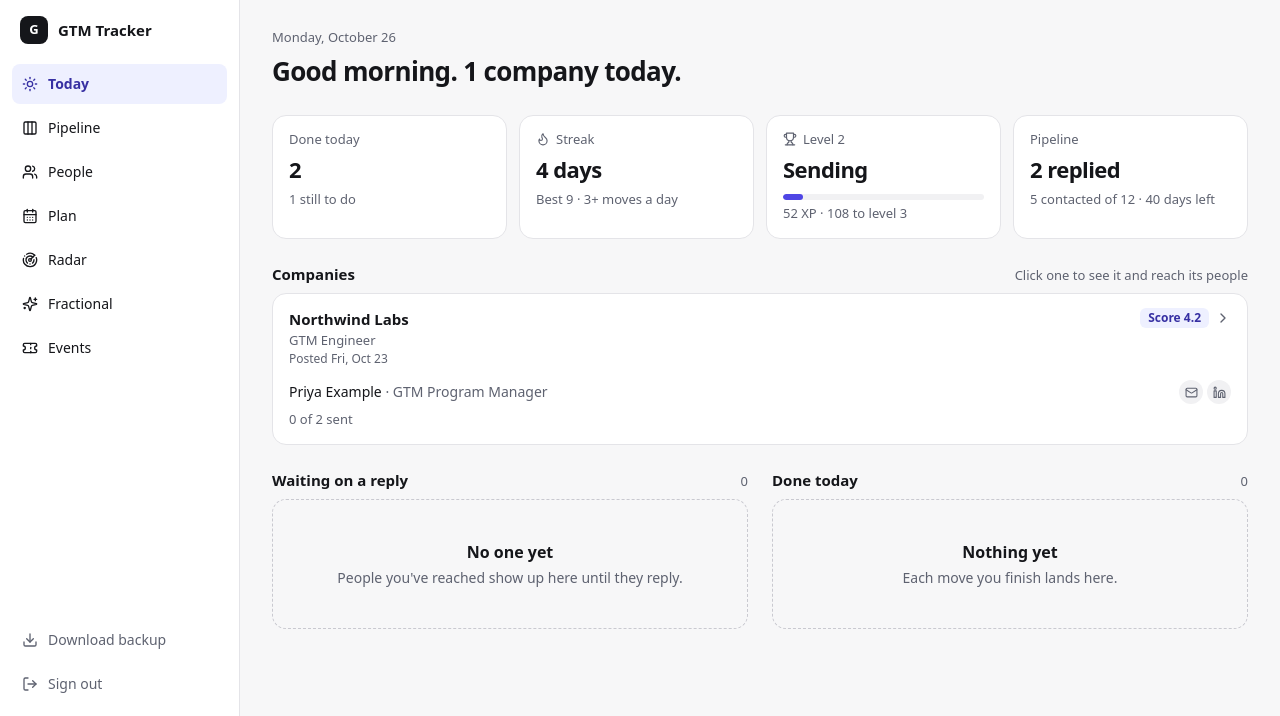
Test case: Today › gets Today's companies ready, and looks up a missing email when a company opens
Click the button "Northwind Labs".
click(349, 319)  # box [273,294,1247,444]
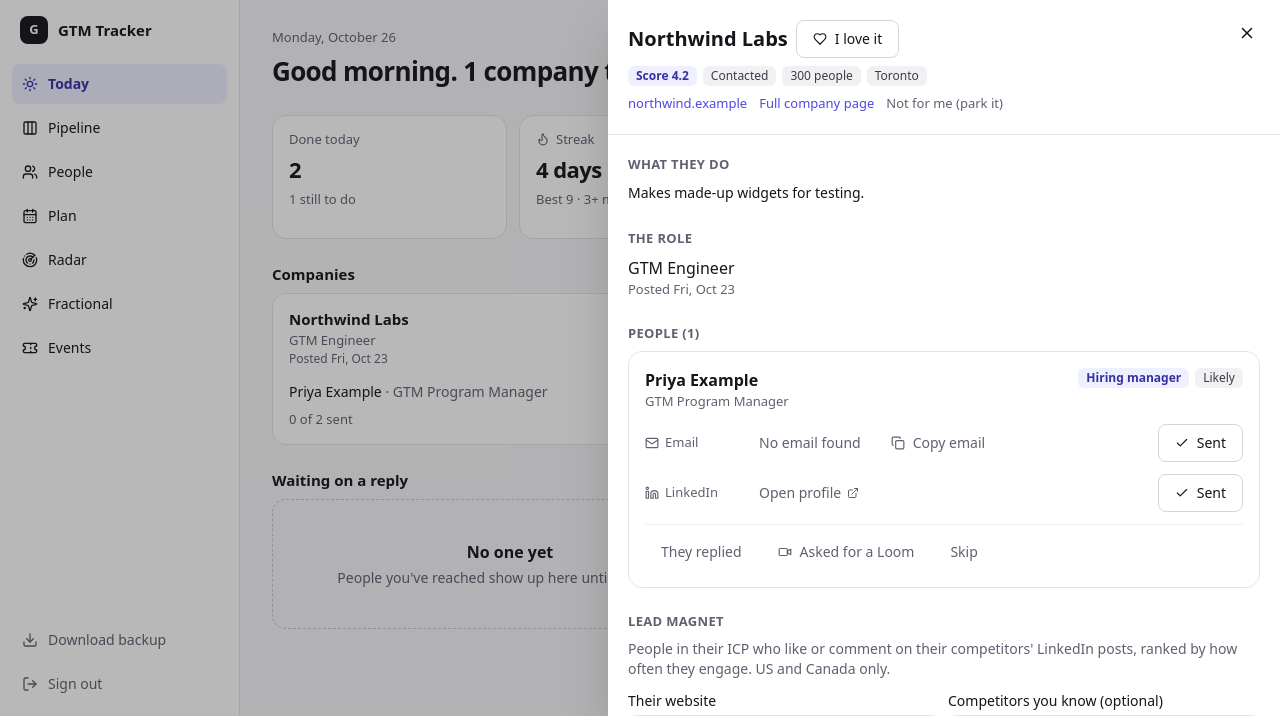
Expected: the text "No email found" is shown, [759,433,861,452]
